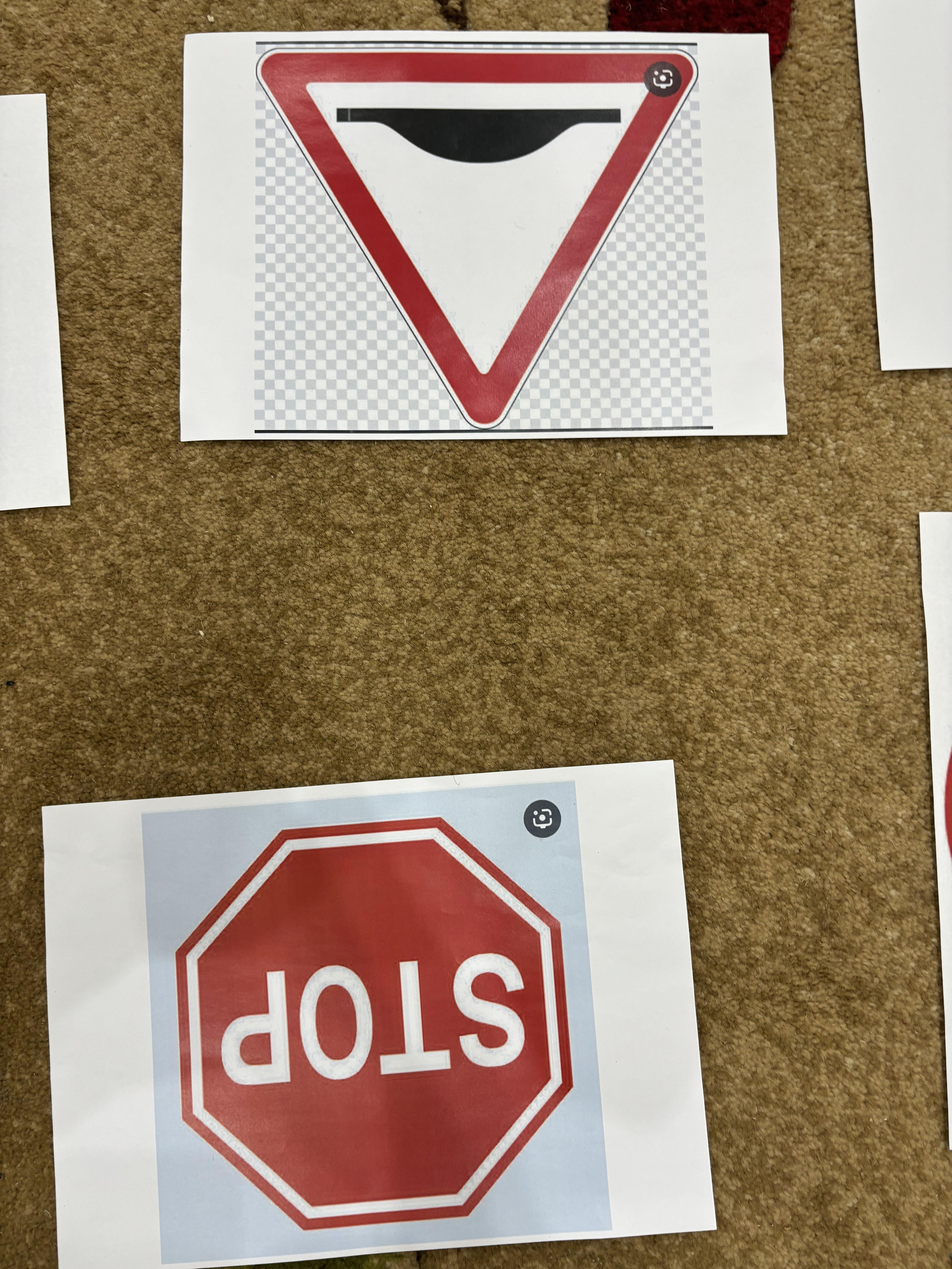Hump: (246, 45, 712, 429)
Stop: (166, 802, 576, 1237)
